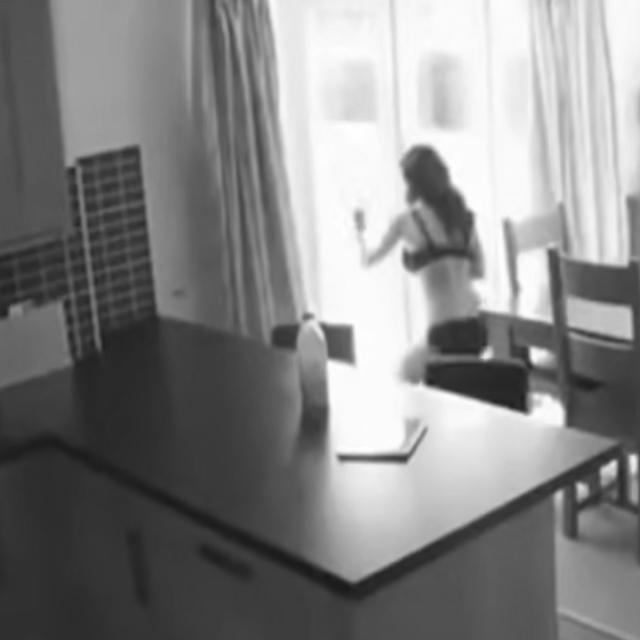Invader: (353, 142, 487, 384)
